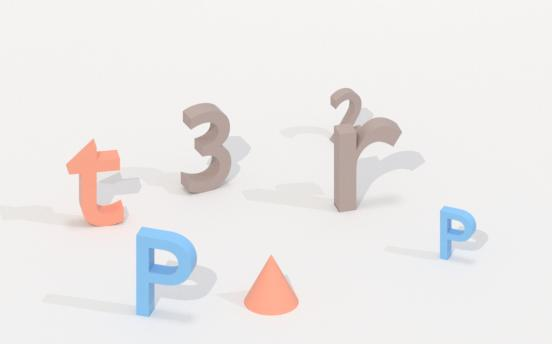2: (328, 86, 364, 143)
3: (179, 101, 235, 196)
R: (332, 116, 405, 214)
non: (241, 253, 301, 316)
p: (135, 223, 199, 324), (438, 202, 478, 266)
t: (65, 138, 125, 229)
